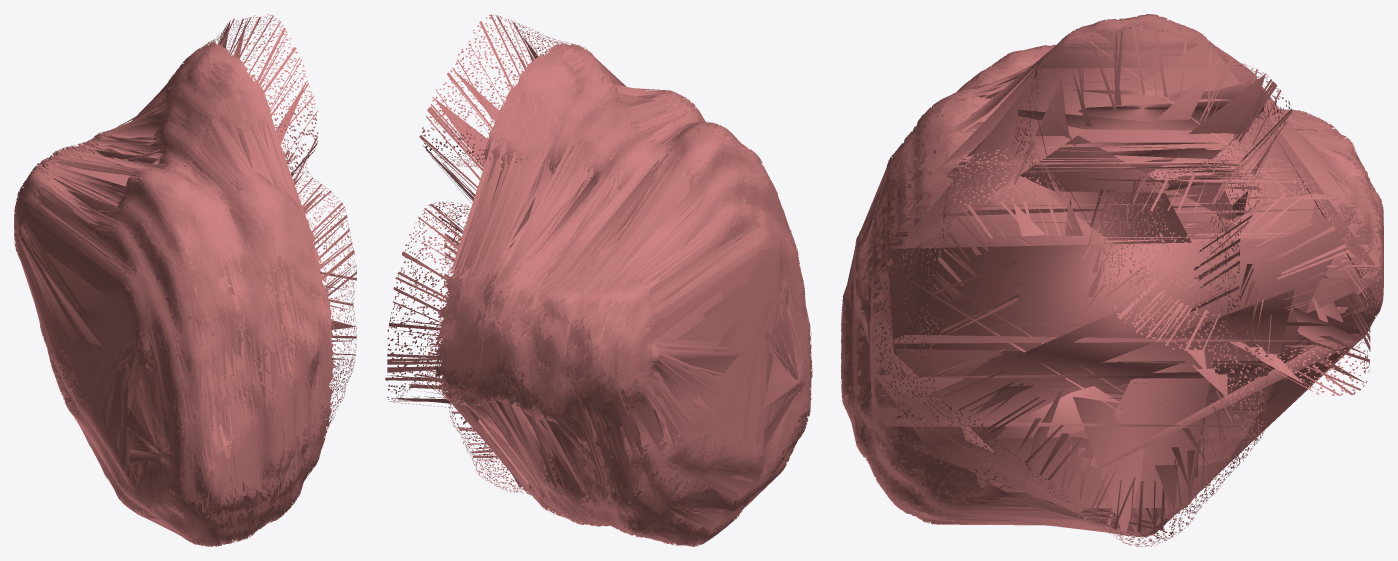
The model's file is heart.glb.
3 renders of one model, left to right at view 1: azimuth 30°, elevation 25°; view 2: azimuth 150°, elevation 25°; view 3: azimuth 270°, elevation 25°, orthographic. The views are drawn at different scales.
Bounding box in the file's own units: 64.57 × 130 × 111.
